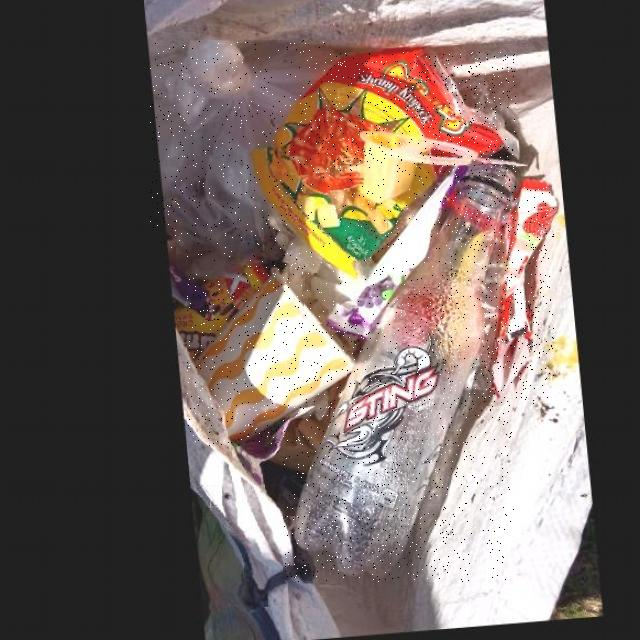glass: (283, 168, 514, 582)
paper: (188, 272, 347, 446)
plastic: (151, 41, 326, 261)
wrapper: (247, 53, 516, 285), (304, 174, 455, 324), (483, 188, 554, 406)
